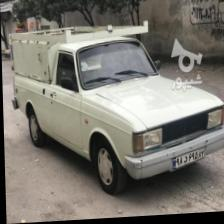plate: (168, 149, 203, 170)
